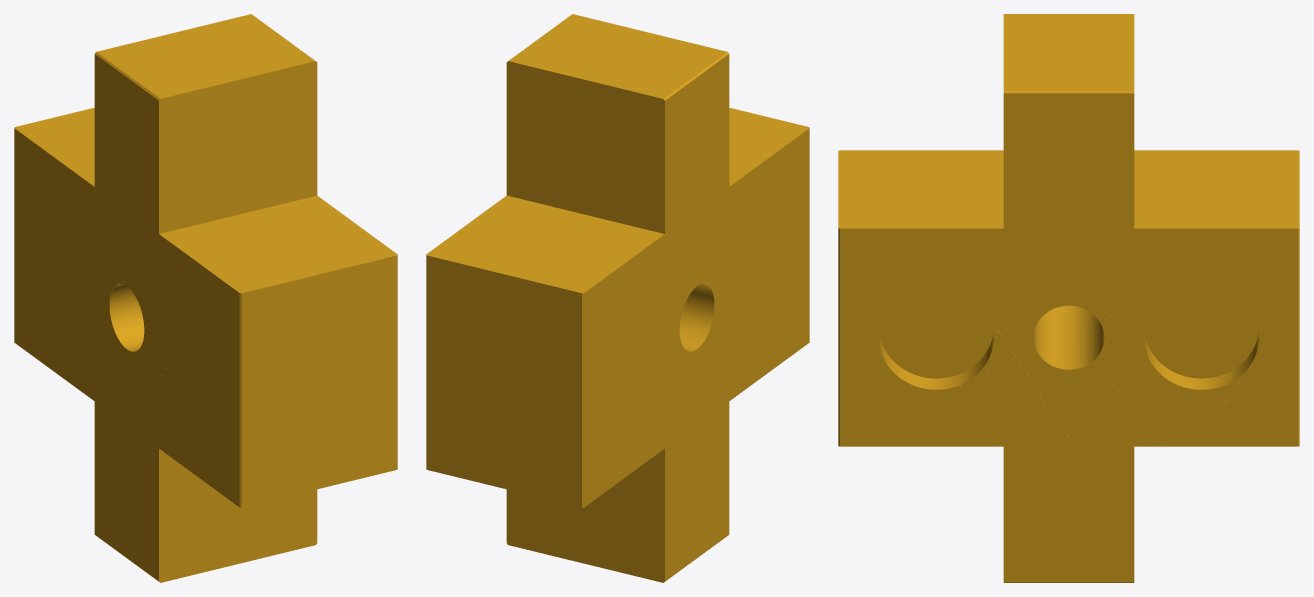
Rendered from takoz-soosan-sb121-ts-p-top-buffer-type-y-02.glb.
3 views of the same model, side by side, from view 1: azimuth 30°, elevation 25°; view 2: azimuth 150°, elevation 25°; view 3: azimuth 270°, elevation 25° (orthographic).
Visible parts, largest first — view 1: body; view 2: body; view 3: body.
Part boxes in pixels (<box>): body: <box>14,14,397,582</box>; body: <box>426,14,809,582</box>; body: <box>838,14,1299,582</box>.
Size of the model in its own units: 0.105 by 0.307 by 0.261.
